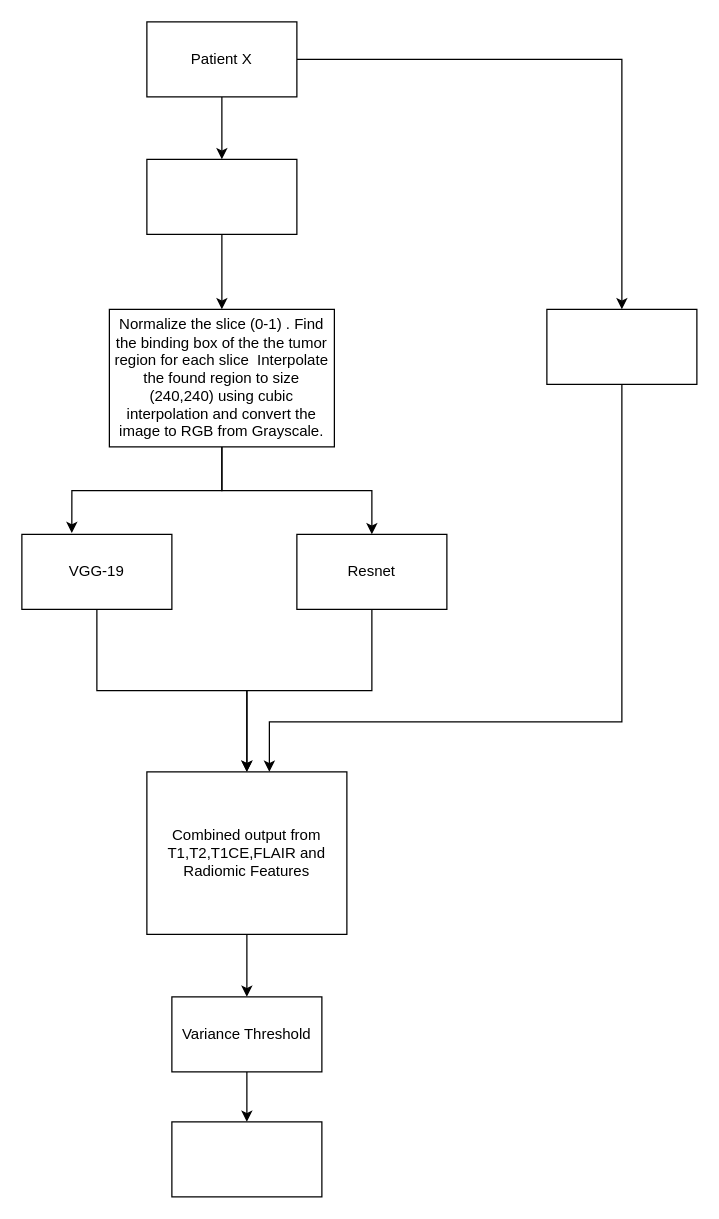
The diagram is 719 pixels wide and 1219 high, and some of its shapes have lost their labels. Here are the shapes that lost their labels. From the top down, the centre of each, then its label:
(221,196): Find the slices with at least 300 pixels non-zero in the mask
(621,346): Radiomic Features
(246,1159): RFECV using Linear SVC
